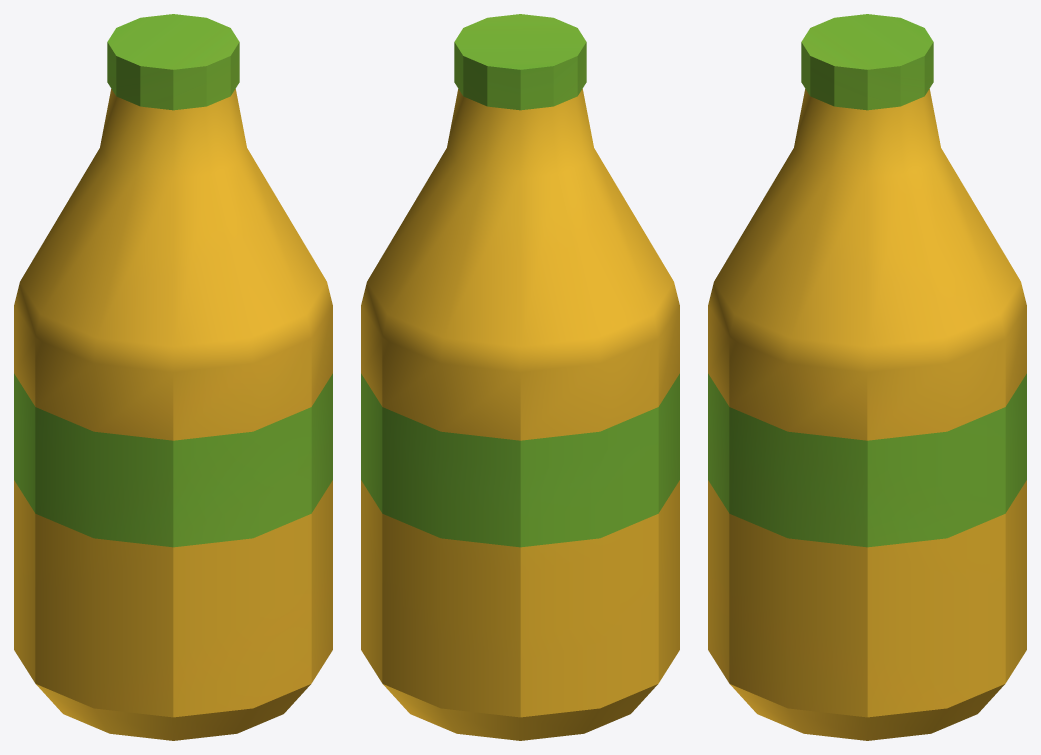
Rendered from Ürün8.fbx.
The picture shows the model from 3 angles, left to right: view 1: azimuth 30°, elevation 25°; view 2: azimuth 150°, elevation 25°; view 3: azimuth 270°, elevation 25°; orthographic projection.
Parts seen in each view (by area): view 1: pCylinder6; view 2: pCylinder6; view 3: pCylinder6.
Part boxes in pixels (x1,y1,x2,y2): pCylinder6: (14, 14, 332, 740); pCylinder6: (361, 14, 679, 740); pCylinder6: (708, 14, 1026, 740).
Bounding box in the file's own units: 8.52 × 19.04 × 8.52.
